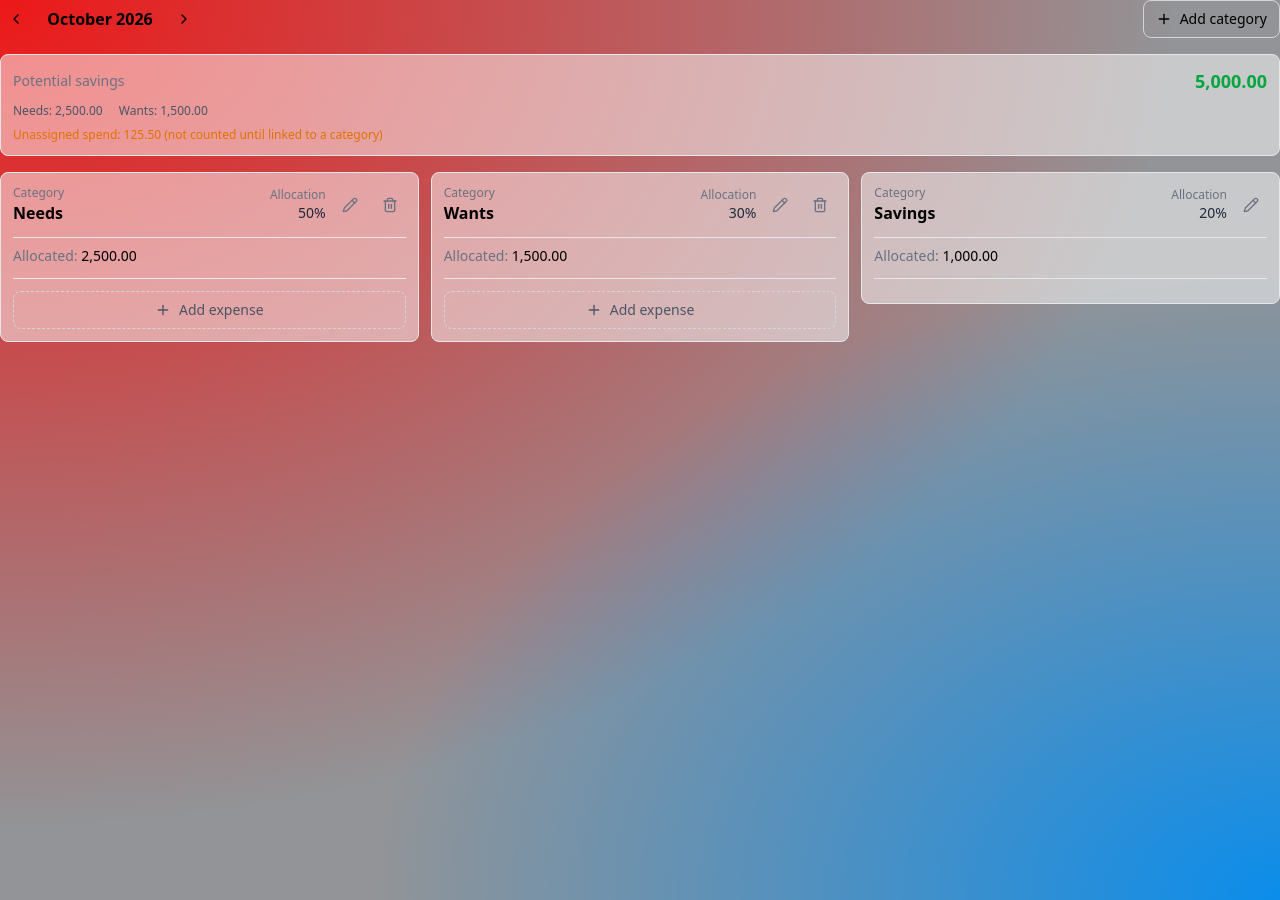
Test: BudgetPlanner › keeps a separate allocation plan for each month
This screenshot has width=1280, height=900.
Click the button named "Edit Needs".
click(350, 205)  # box [334, 189, 366, 221]
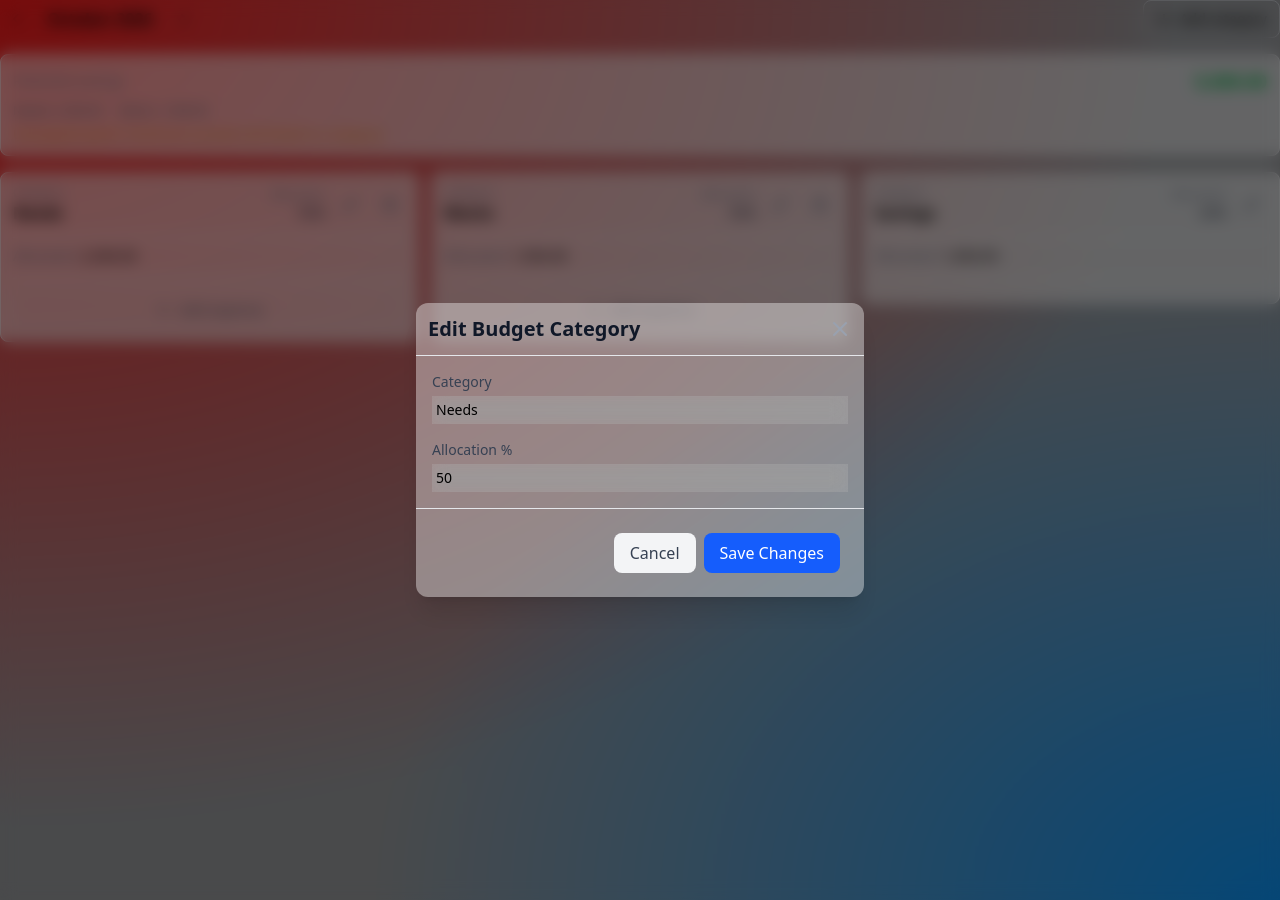
Replace the text in the number field named "Allocation percentage" with "60" at x=640, y=478, box [432, 464, 848, 492]
Click the button "Save Changes".
click(772, 553)  # box [704, 533, 840, 573]
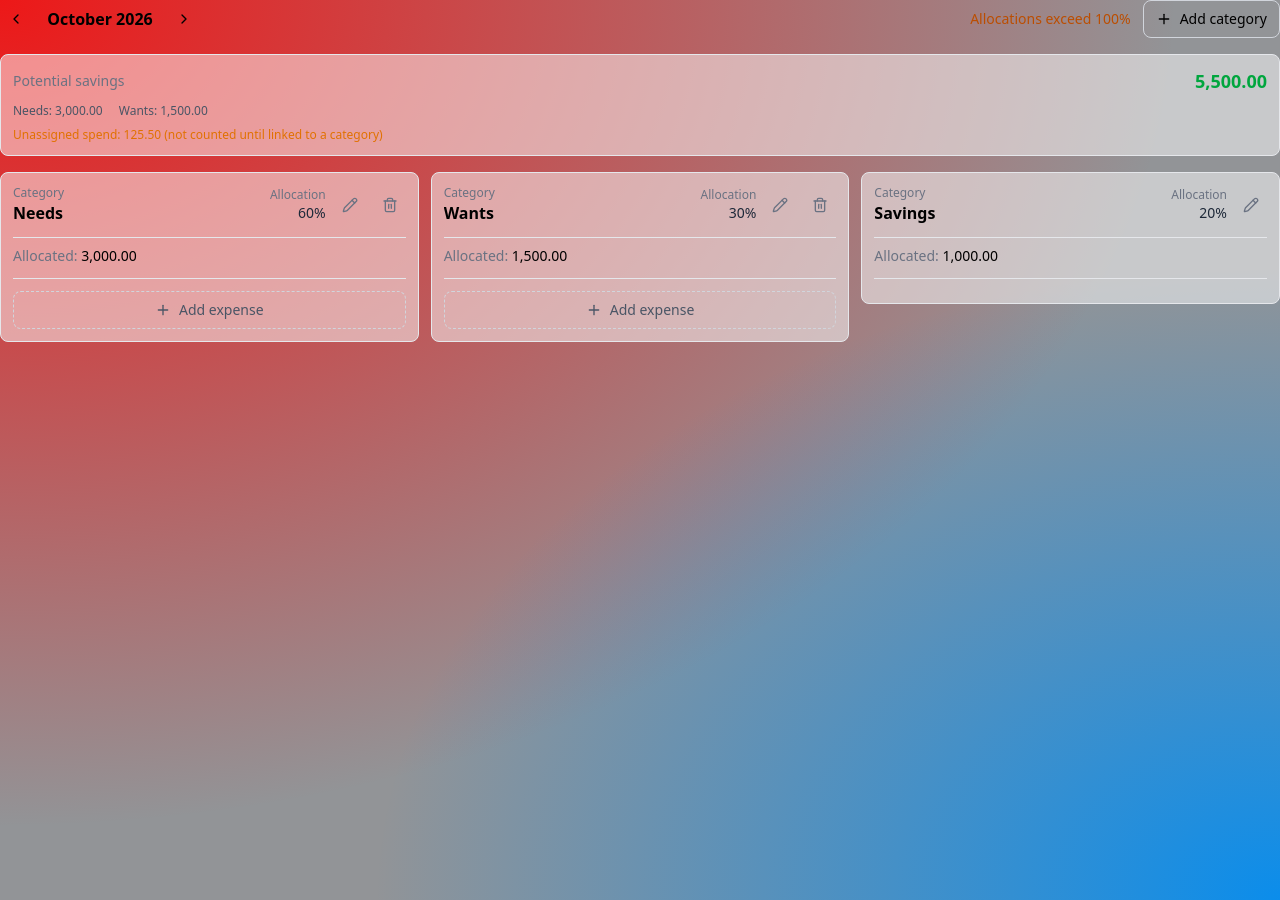
Click the button named "Previous budget month".
click(16, 19)  # box [0, 3, 32, 35]
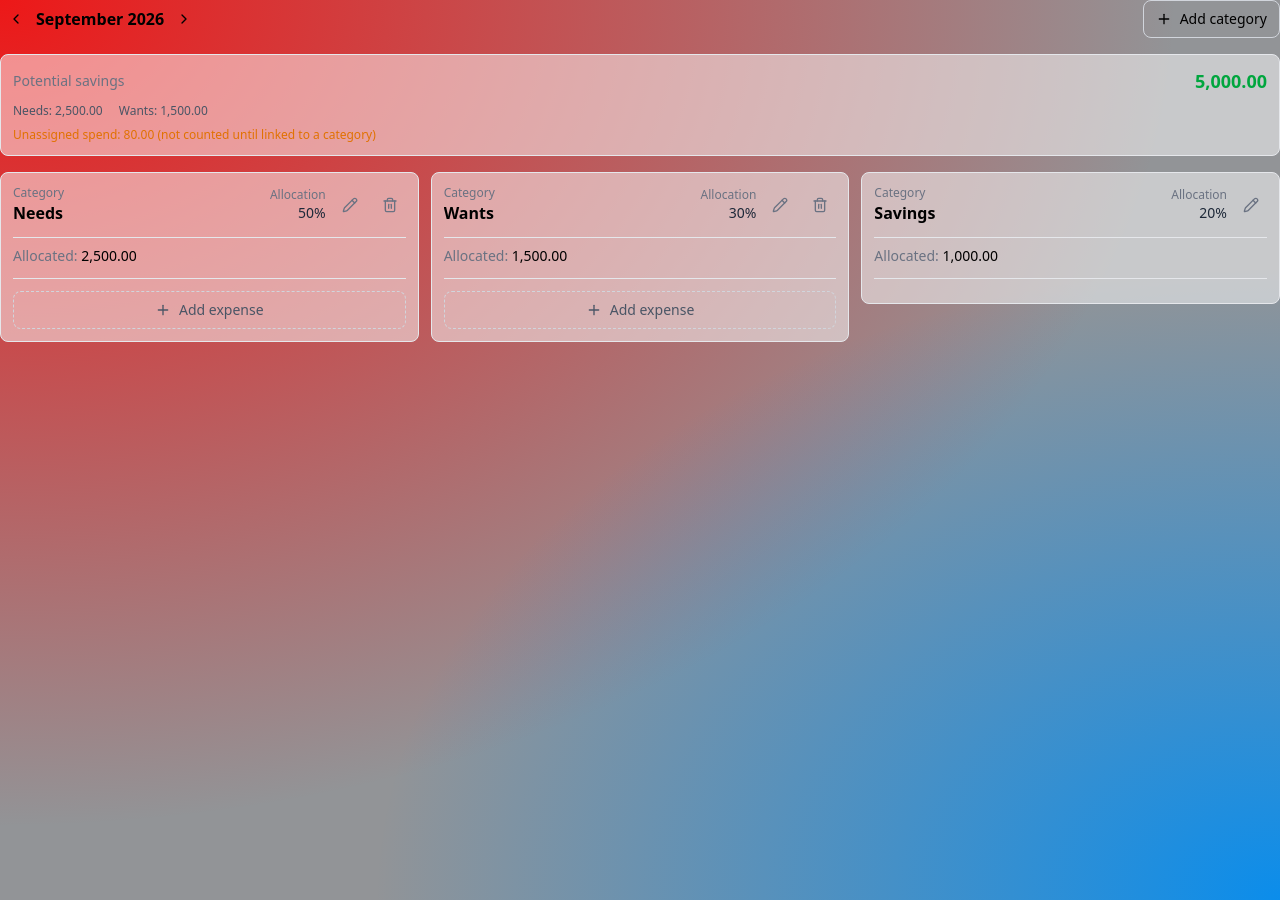
Expected: the text "50%" is shown, [298, 203, 326, 222]
Click the button named "Edit Needs".
click(350, 205)  # box [334, 189, 366, 221]
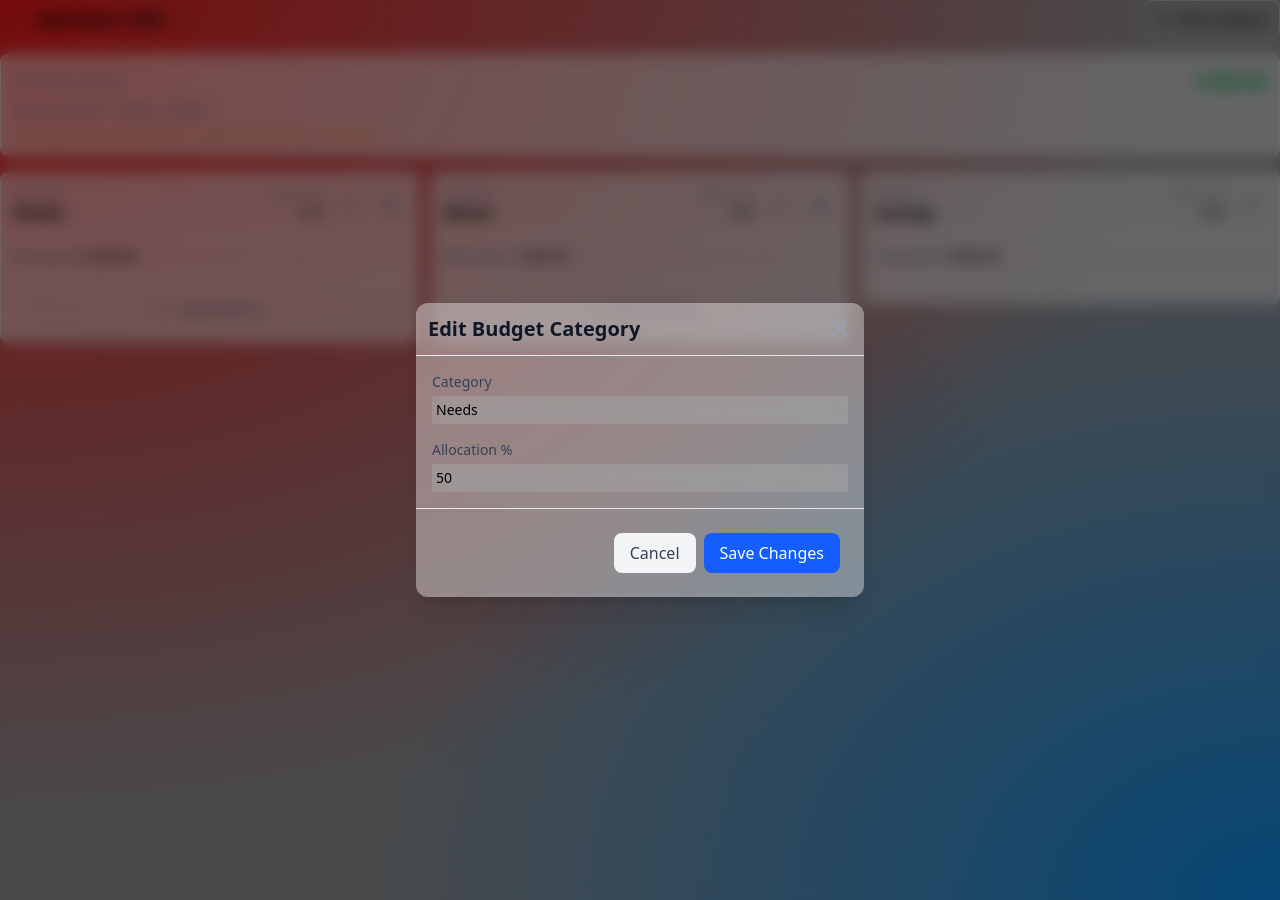
Replace the text in the number field named "Allocation percentage" with "40" at x=640, y=478, box [432, 464, 848, 492]
Click the button "Save Changes".
click(772, 553)  # box [704, 533, 840, 573]
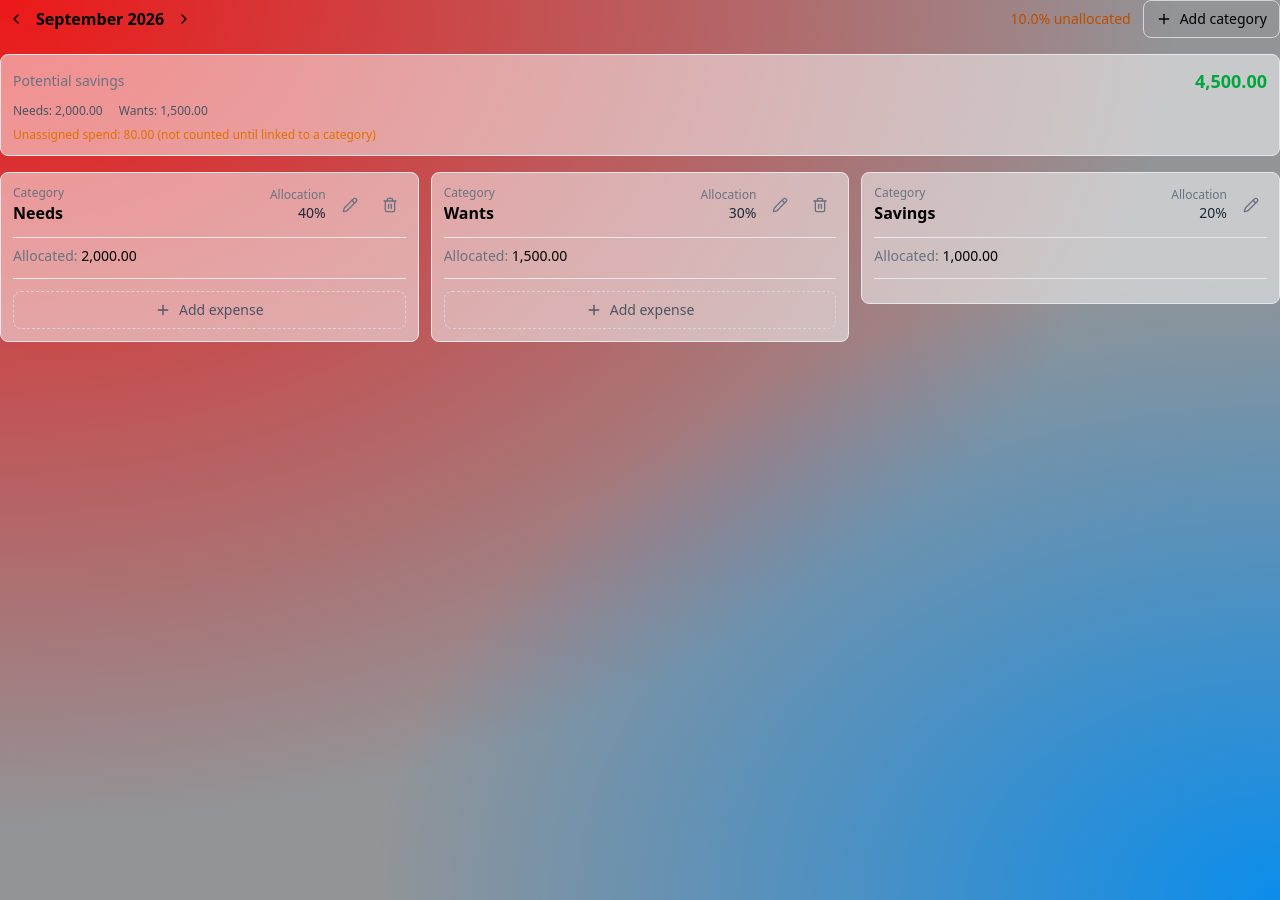
Click the button named "Next budget month".
click(184, 19)  # box [168, 3, 200, 35]
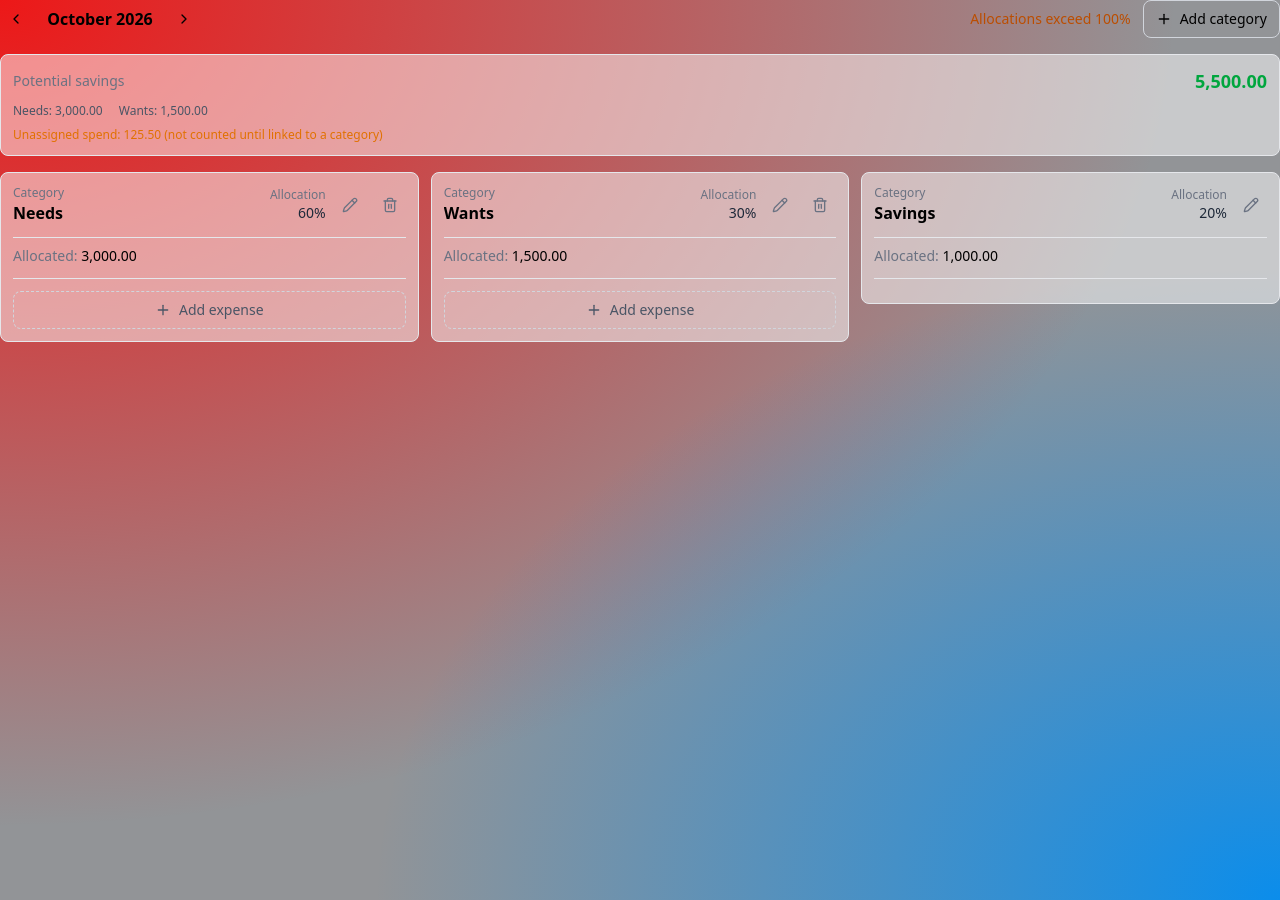
Expected: the text "60%" is shown, [298, 203, 326, 222]
